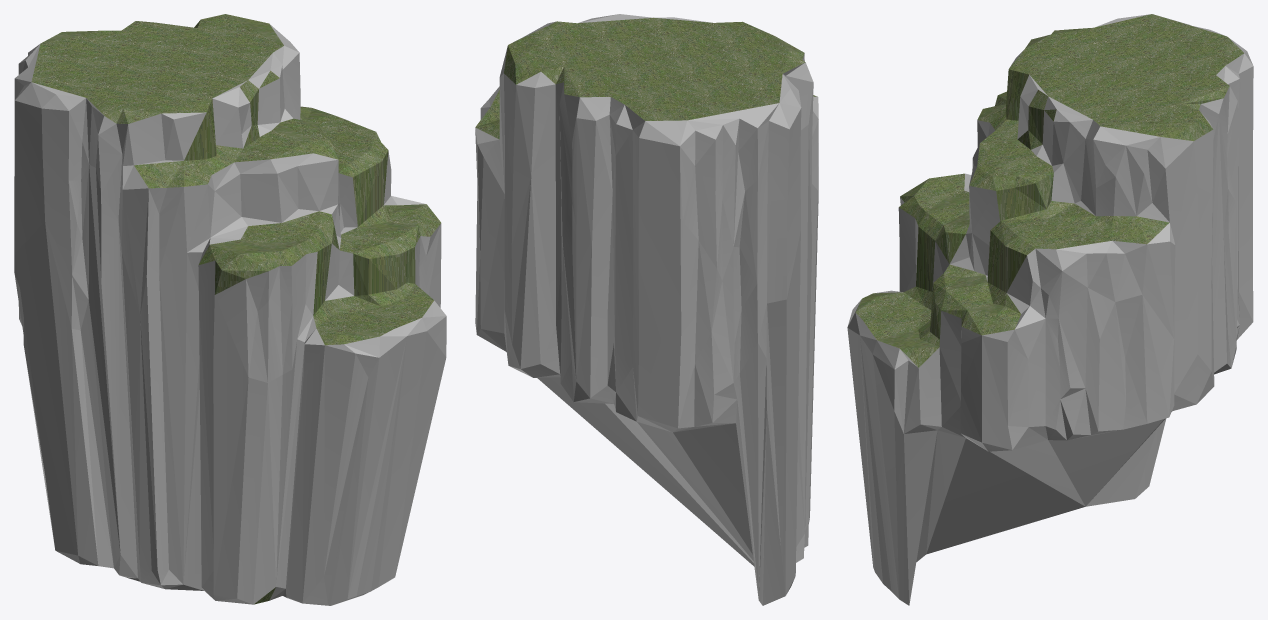
File: 115_CavePlatform1.gltf
3 renders of one model, left to right at view 1: azimuth 30°, elevation 25°; view 2: azimuth 150°, elevation 25°; view 3: azimuth 270°, elevation 25°, orthographic. The views are drawn at different scales.
Visible parts, largest first — view 1: CavePlatform1; view 2: CavePlatform1; view 3: CavePlatform1.
Boxes of the visible parts, x1=… form: CavePlatform1: x1=14, y1=14, x2=446, y2=605; CavePlatform1: x1=475, y1=14, x2=818, y2=605; CavePlatform1: x1=847, y1=14, x2=1253, y2=605.
Bounding box in the file's own units: 88.11 × 115 × 89.3.
Materials: 2 (1 with a texture image).
